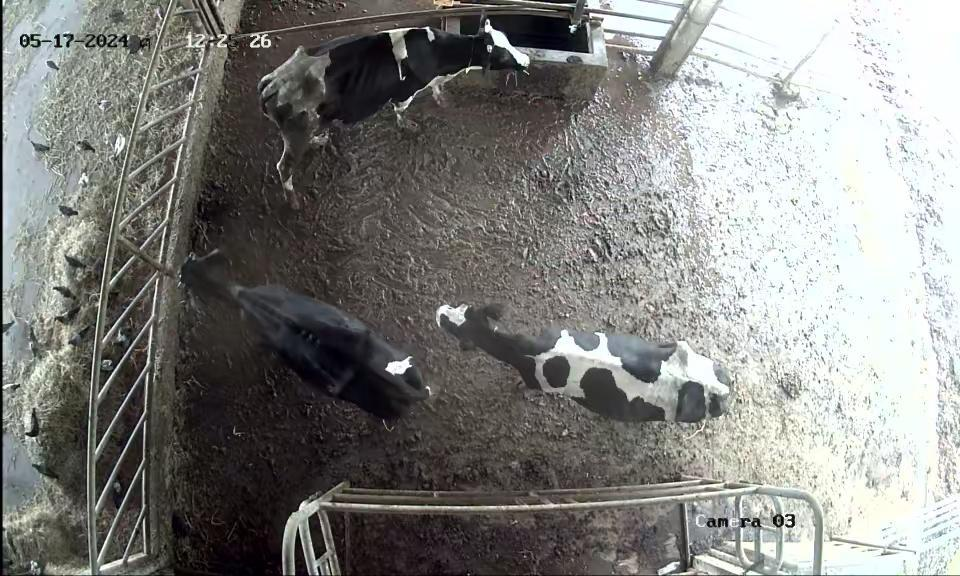stand: (436, 258, 753, 458), (222, 13, 540, 212), (176, 242, 438, 435)
